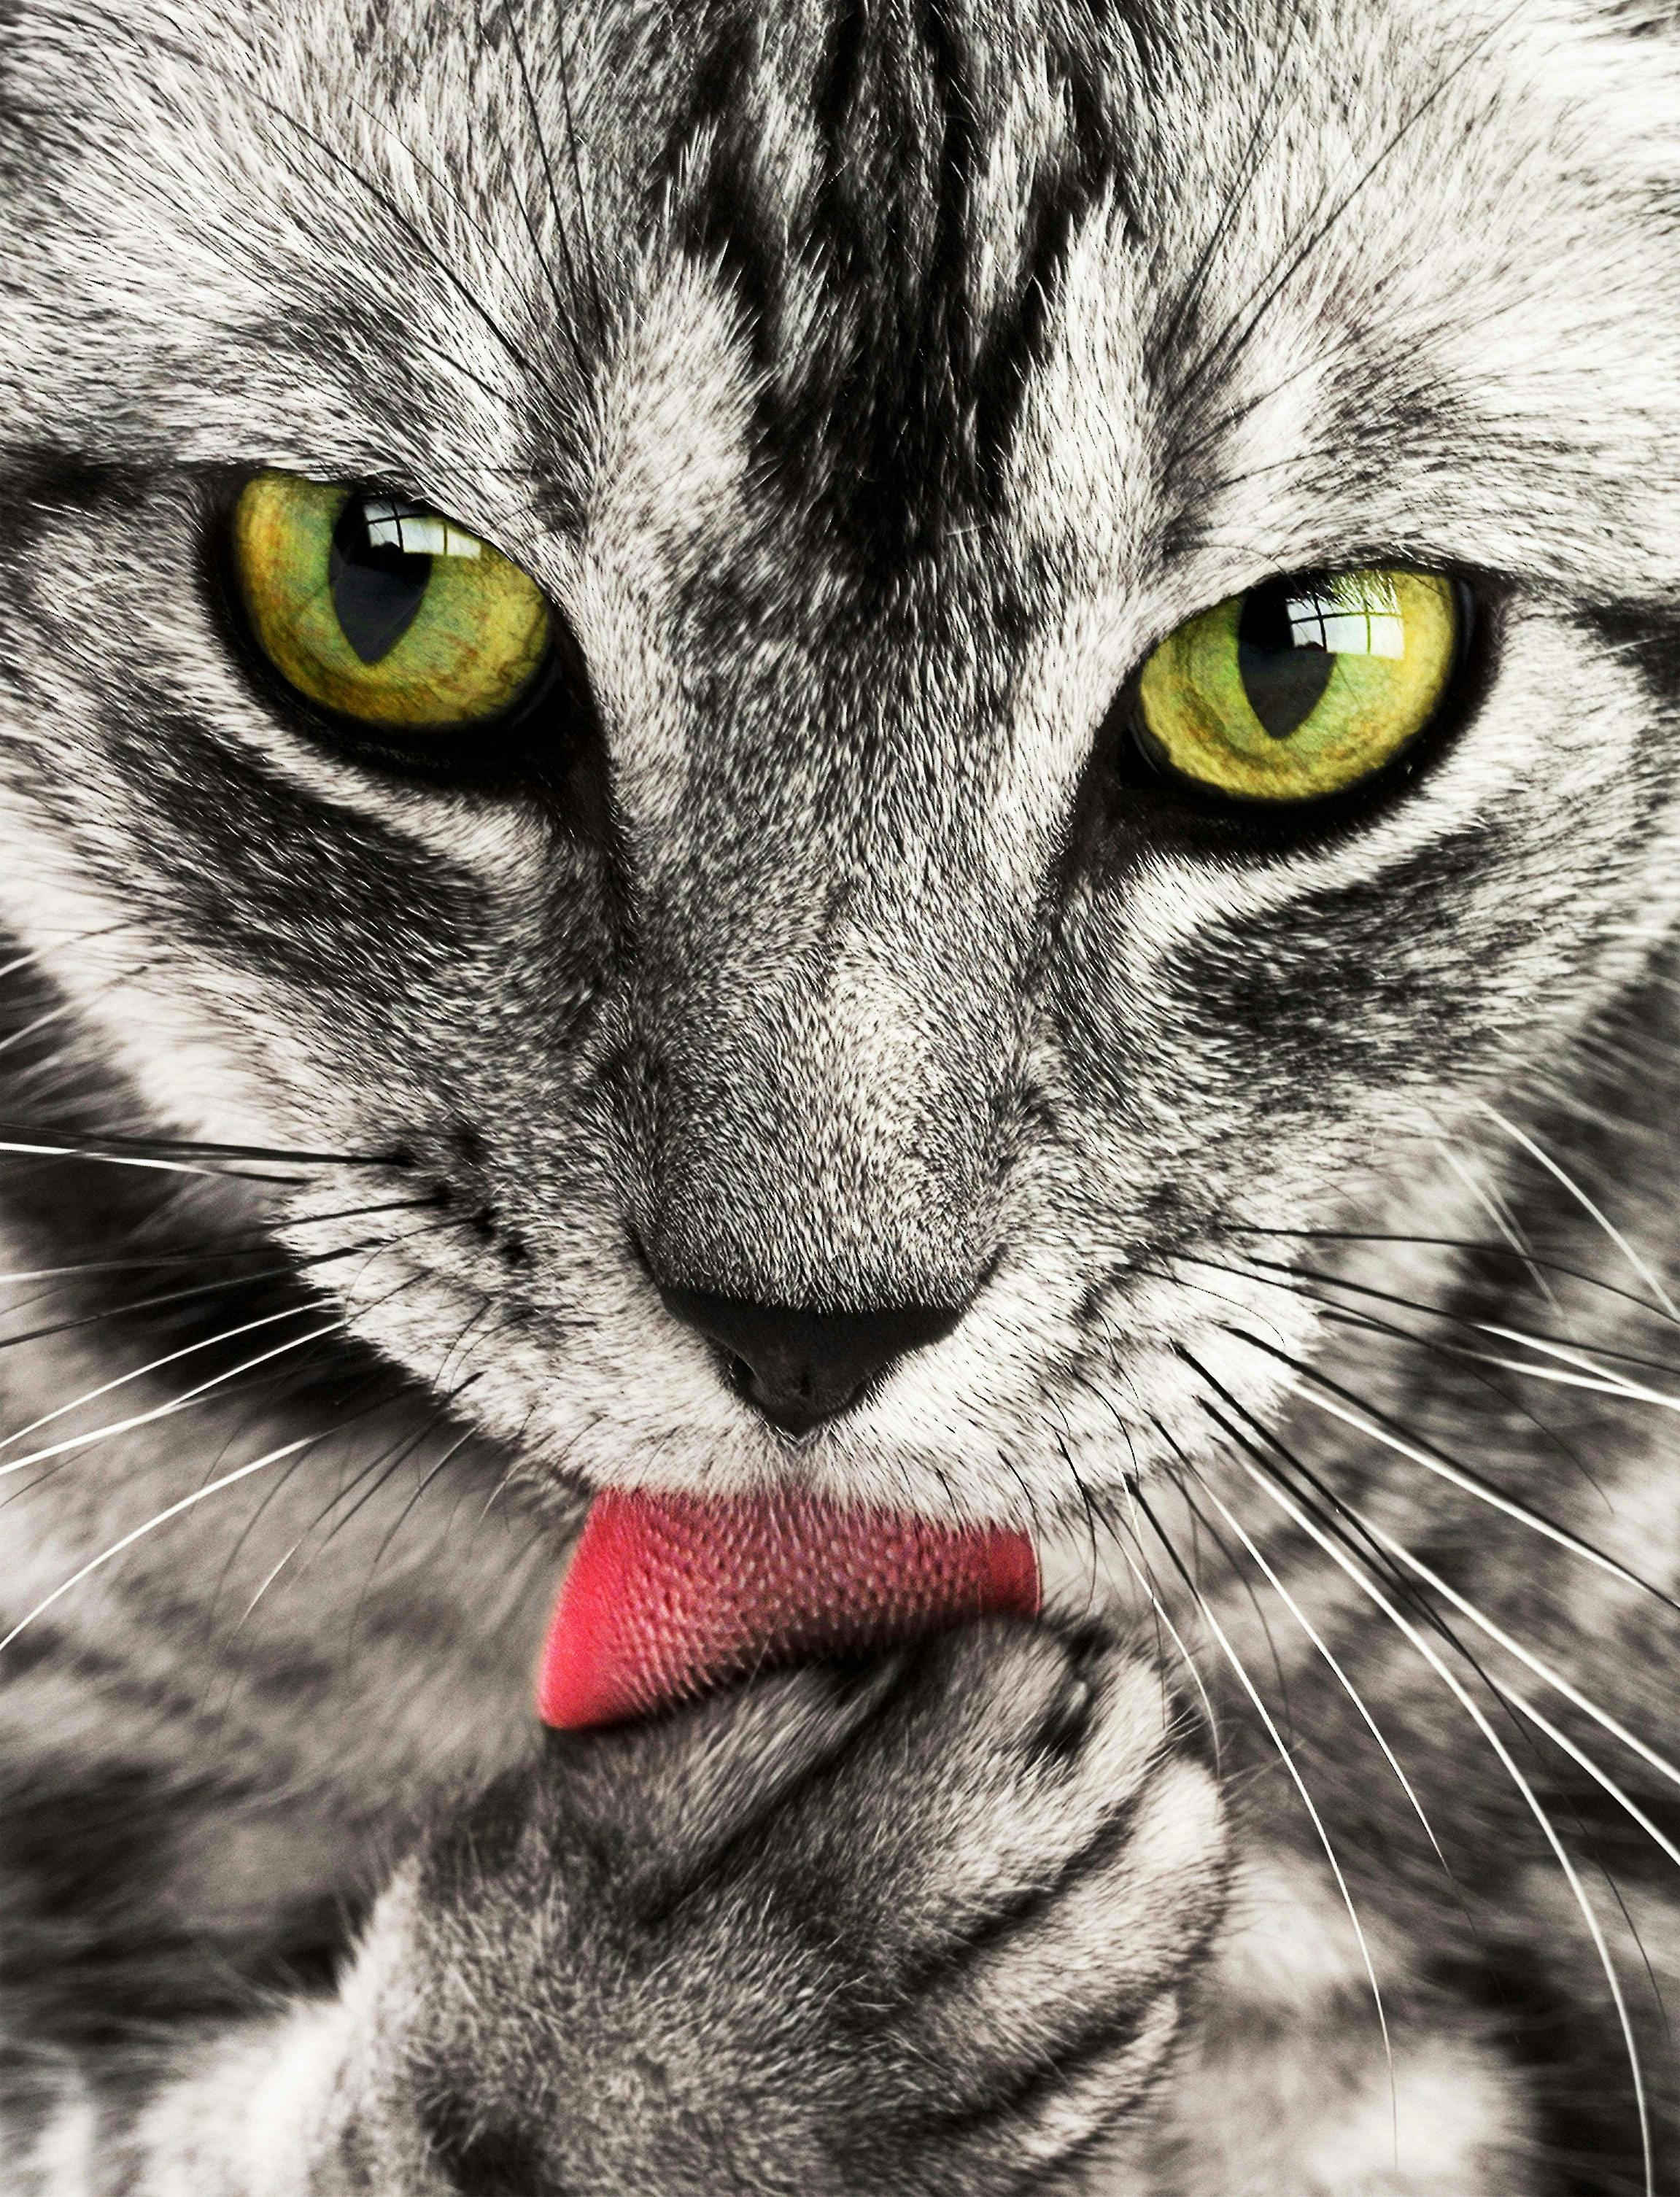kedo: (0, 0, 1680, 2181)
